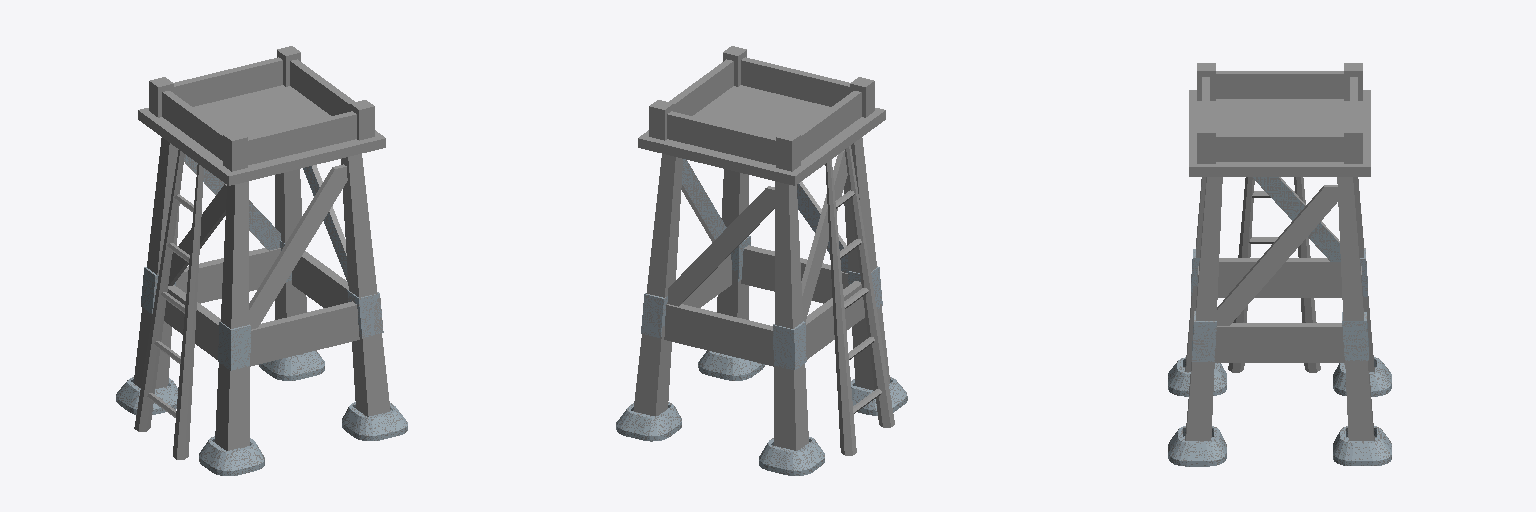
Rendered from archertower.obj.
The picture shows the model from 3 angles: view 1: azimuth 30°, elevation 25°; view 2: azimuth 150°, elevation 25°; view 3: azimuth 270°, elevation 25°; orthographic projection.
Visible parts, largest first — view 1: group_29.001_ID514, group_29.004_ID514, group_23_ID394, group_24_ID403, group_29.002_ID514, instance_9_ID325, group_32.004_ID548, instance_10_ID335, group_32.002_ID548, group_29.003_ID514, group_30.001_ID523, group_30.002_ID523 (+20 smaller); view 2: group_29.002_ID514, group_29.003_ID514, group_23.002_ID448, instance_10_ID335, group_29.001_ID514, group_32.002_ID548, group_24.004_ID457, instance_9_ID325, group_32.004_ID548, group_30.002_ID523, group_29.004_ID514, group_30.001_ID523 (+19 smaller); view 3: group_23.003_ID475, group_29.003_ID514, group_29.004_ID514, group_24.006_ID484, group_23.001_ID421, group_32.003_ID548, group_32.001_ID548, group_30.002_ID523, group_30.001_ID523, group_30.004_ID523, group_30.003_ID523, group_33.005_ID557 (+14 smaller).
Boxes of the visible parts, box(x1,y1,x2,y2) form: group_29.001_ID514: box(215, 181, 249, 450); group_29.004_ID514: box(341, 154, 390, 416); group_23_ID394: box(250, 301, 359, 366); group_24_ID403: box(249, 164, 347, 329); group_29.002_ID514: box(134, 138, 180, 388); instance_9_ID325: box(173, 164, 203, 459); group_32.004_ID548: box(248, 111, 356, 164); instance_10_ID335: box(134, 150, 184, 431); group_32.002_ID548: box(174, 57, 282, 106); group_29.003_ID514: box(275, 169, 306, 319); group_30.001_ID523: box(183, 124, 307, 185); group_30.002_ID523: box(138, 99, 260, 151); group_29.002_ID514: box(774, 181, 808, 450); group_29.003_ID514: box(633, 154, 682, 416); group_23.002_ID448: box(664, 304, 773, 366); instance_10_ID335: box(825, 159, 856, 455); group_29.001_ID514: box(844, 138, 889, 390); group_32.002_ID548: box(667, 111, 775, 164); group_24.004_ID457: box(667, 186, 774, 306); instance_9_ID325: box(845, 146, 894, 427); group_32.004_ID548: box(741, 57, 849, 106); group_30.002_ID523: box(716, 124, 840, 185); group_29.004_ID514: box(717, 169, 748, 319); group_30.001_ID523: box(763, 99, 885, 151); group_23.003_ID475: box(1215, 323, 1344, 362); group_29.003_ID514: box(1337, 177, 1374, 440); group_29.004_ID514: box(1185, 177, 1222, 440); group_24.006_ID484: box(1217, 185, 1337, 325); group_23.001_ID421: box(1218, 258, 1341, 297); group_32.003_ID548: box(1216, 133, 1343, 161); group_32.001_ID548: box(1216, 71, 1343, 98); group_30.002_ID523: box(1280, 90, 1370, 128); group_30.001_ID523: box(1189, 90, 1279, 128); group_30.004_ID523: box(1189, 129, 1279, 176); group_30.003_ID523: box(1280, 129, 1370, 176); group_33.005_ID557: box(1168, 426, 1226, 466).
Bounding box in the file's own units: 1.8 × 2.68 × 1.69.